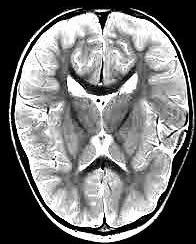Normal_Brain: (3, 1, 196, 244)
